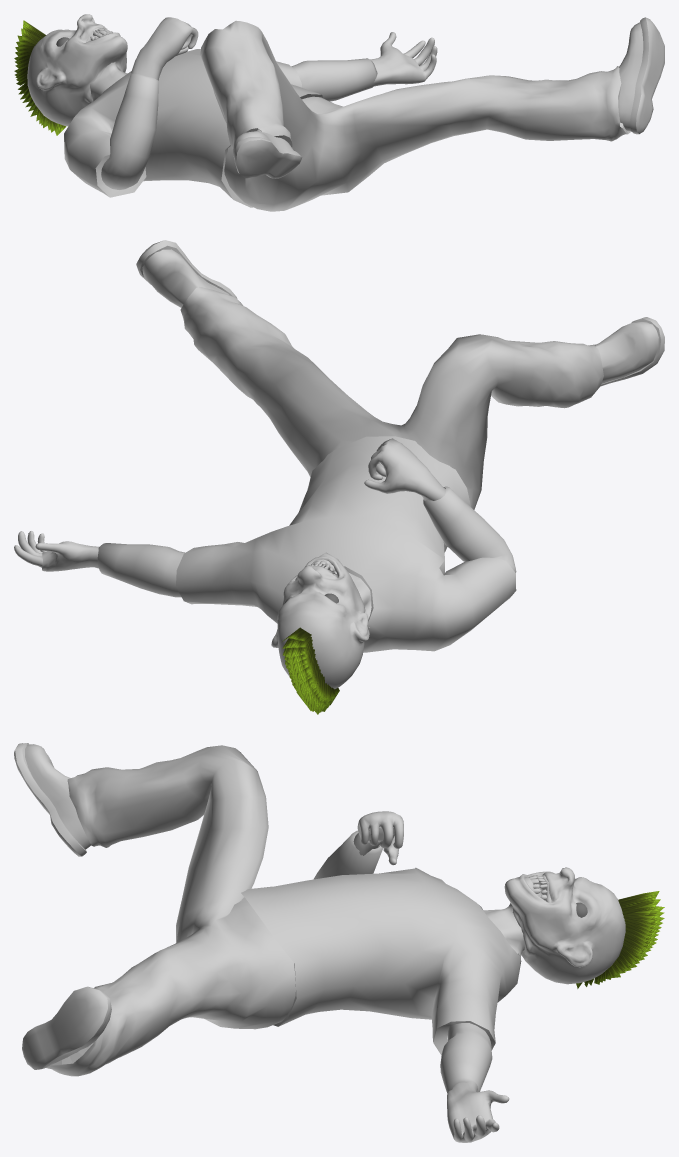
The model's file is Dead (49).obj.
3 views of the same model, one above another, from view 1: azimuth 30°, elevation 25°; view 2: azimuth 150°, elevation 25°; view 3: azimuth 270°, elevation 25° (orthographic). The views are drawn at different scales.
Parts seen in each view (by area): view 1: pants, shirt, head, forearm_band_01, boots001, forearm_band_002, boots, hand_left, hand_right, Hair, neck; view 2: shirt, pants, head, forearm_band_01, forearm_band_002, boots, boots001, hand_right, Hair, hand_left; view 3: pants, shirt, head, boots001, boots, Hair, forearm_band_002, hand_left, hand_right, forearm_band_01, neck.
Part boxes in pixels (box(x1,y1,x2,y2)): pants: box(200, 20, 631, 211); shirt: box(64, 49, 323, 207); head: box(27, 14, 127, 126); forearm_band_01: box(101, 73, 158, 189); boots001: box(619, 17, 664, 134); forearm_band_002: box(291, 58, 377, 101); boots: box(233, 129, 302, 178); hand_left: box(370, 32, 437, 86); hand_right: box(131, 17, 198, 80); Hair: box(14, 20, 66, 135); neck: box(90, 62, 127, 101); shirt: box(176, 436, 516, 652); pants: box(180, 287, 603, 509); head: box(271, 552, 369, 689); forearm_band_01: box(423, 486, 516, 572); forearm_band_002: box(97, 543, 184, 597); boots: box(595, 317, 664, 386); boots001: box(136, 240, 237, 307); hand_right: box(364, 438, 445, 500); Hair: box(282, 627, 339, 714); hand_left: box(14, 531, 99, 571); pants: box(46, 745, 295, 1076); shirt: box(241, 867, 521, 1055); head: box(504, 867, 625, 984); boots001: box(22, 986, 111, 1069); boots: box(14, 743, 91, 856); Hair: box(576, 891, 664, 988); forearm_band_002: box(440, 1023, 492, 1092); hand_left: box(447, 1081, 509, 1142); hand_right: box(353, 811, 403, 865); forearm_band_01: box(313, 830, 383, 879); neck: box(483, 903, 524, 956).
Size of the model in its own units: 141 by 64.51 by 153.
